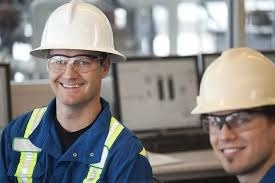helmet: (28, 1, 132, 65), (186, 46, 275, 119)
person with partial safety: (15, 1, 155, 171), (187, 46, 275, 172)
